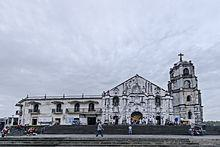daraga_church_daraga_albay: (101, 50, 206, 124)
